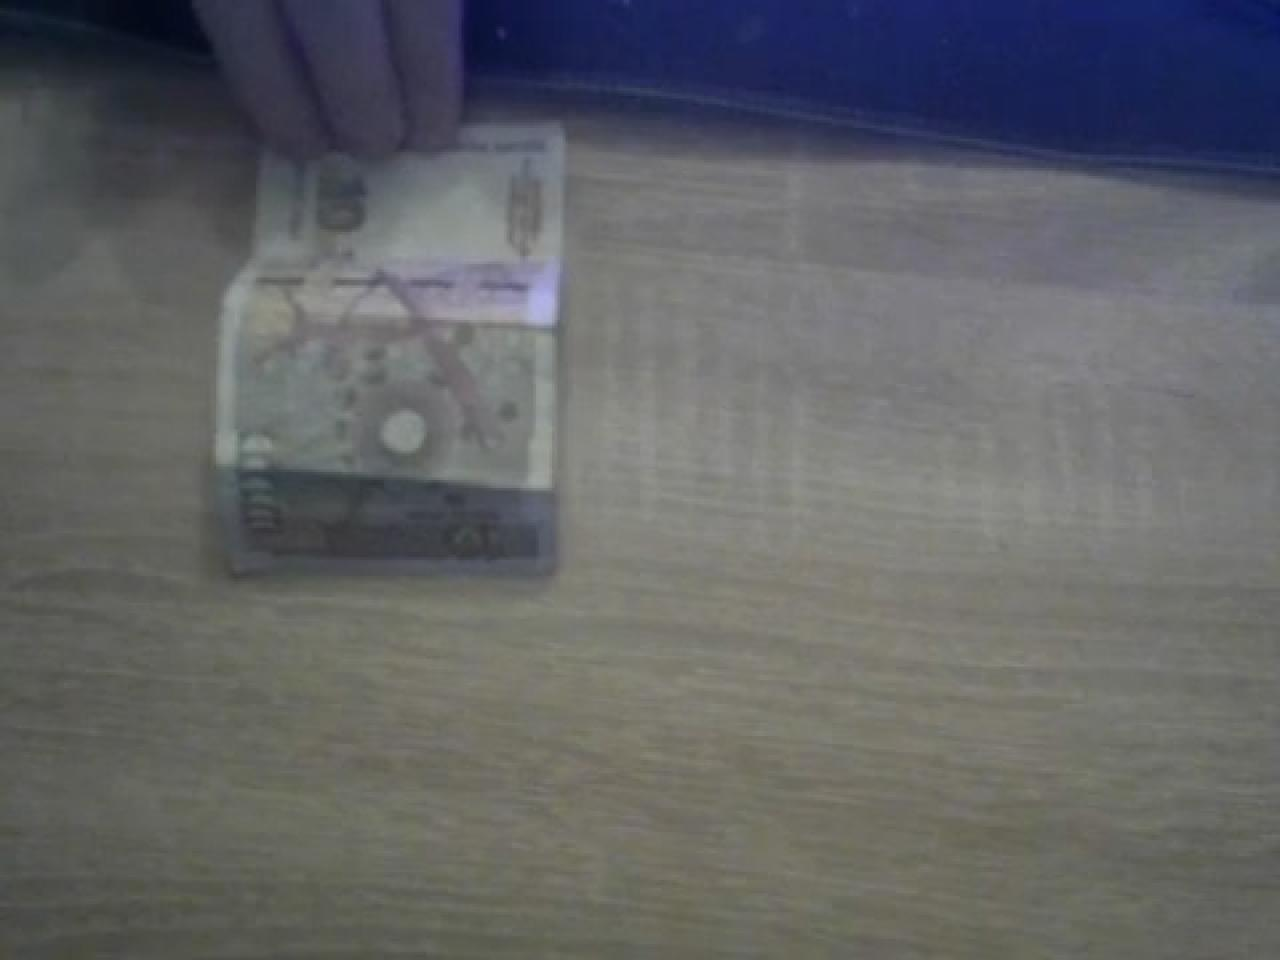10leva: (189, 120, 554, 576)
